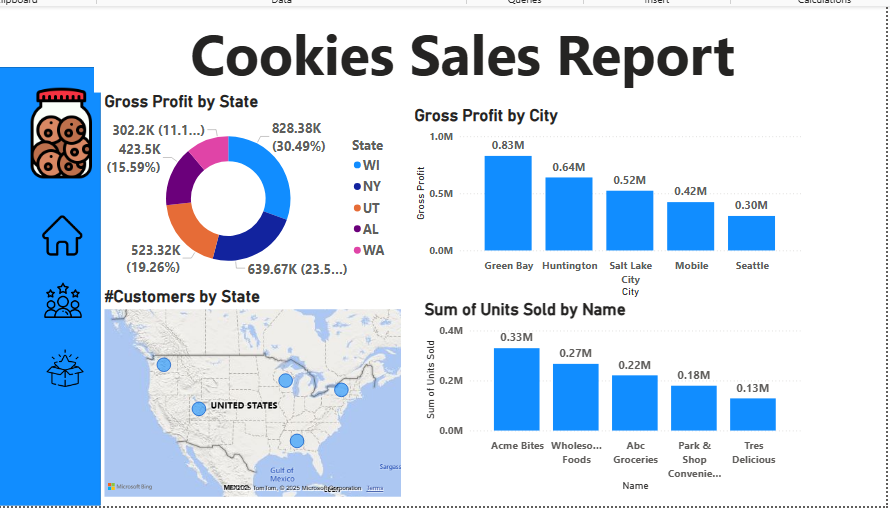

The dashboard page shown, as its layout file describes it:
{"tool":"powerbi","page":{"name":"Customer","canvas":[1280,720],"ordinal":2},"visuals":[{"type":"donutChart","fields":{"Y":["Dax Measure.Gross Profit"],"Category":["Customers.State"]},"box":[147.8,124.4,435.6,280],"z":1},{"type":"group","id":"g1","title":"Group 1","box":[0,88.4,164.6,631.6],"z":2},{"type":"textbox","box":[137.8,8.9,1061.1,115.6],"z":3},{"type":"columnChart","fields":{"Category":["Customers.City"],"Y":["Dax Measure.Gross Profit"]},"box":[594.4,143.3,566.7,280],"z":4},{"type":"map","fields":{"Category":["Customers.State"],"Size":["Dax Measure.#Customers"]},"box":[147.8,404.4,436.7,306.7],"z":5},{"type":"columnChart","fields":{"Category":["Customers.Name"],"Y":["Sales.Units Sold"]},"box":[608.9,423.3,552.2,280],"z":6},{"type":"shape","box":[0,88.4,147.8,631.6],"z":500,"group":"g1"},{"type":"image","box":[18.9,109.3,145.4,147.6],"z":1000,"group":"g1"},{"type":"image","box":[49.7,297.4,83.7,68.3],"z":2000,"group":"g1"},{"type":"image","box":[57.3,391.7,72.7,63.9],"z":3000,"group":"g1"},{"type":"image","box":[57.3,490.8,77.1,63.9],"z":4000,"group":"g1"}]}

Visuals, with their boxes on the page's 1280x720 design canvas (x1, y1, x2, y2). These are canvas units, not pixel positions in the 890x511 screenshot, which may show the page scaled, cropped or inside an application window:
donutChart - Dax Measure.Gross Profit x Customers.State: bbox=(148, 124, 583, 404)
"Group 1" group: bbox=(0, 88, 165, 720)
textbox: bbox=(138, 9, 1199, 124)
columnChart - Customers.City x Dax Measure.Gross Profit: bbox=(594, 143, 1161, 423)
map - Customers.State x Dax Measure.#Customers: bbox=(148, 404, 584, 711)
columnChart - Customers.Name x Sales.Units Sold: bbox=(609, 423, 1161, 703)
shape: bbox=(0, 88, 148, 720)
image: bbox=(19, 109, 164, 257)
image: bbox=(50, 297, 133, 366)
image: bbox=(57, 392, 130, 456)
image: bbox=(57, 491, 134, 555)
